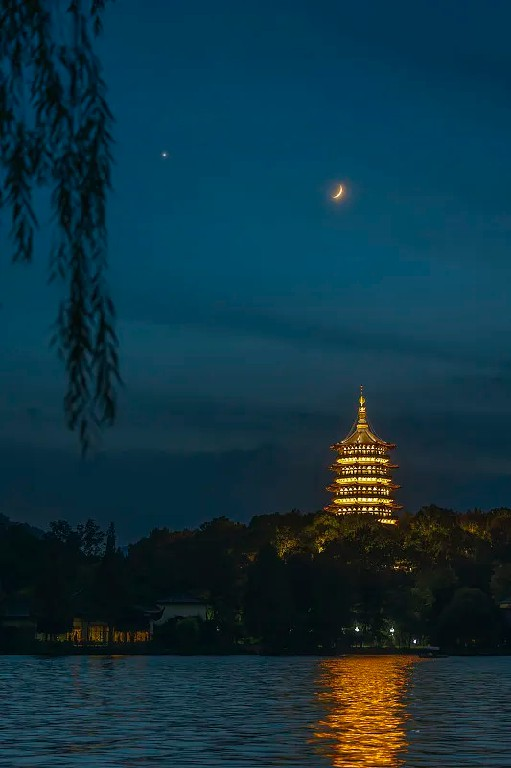Leifeng: (325, 382, 403, 531)
